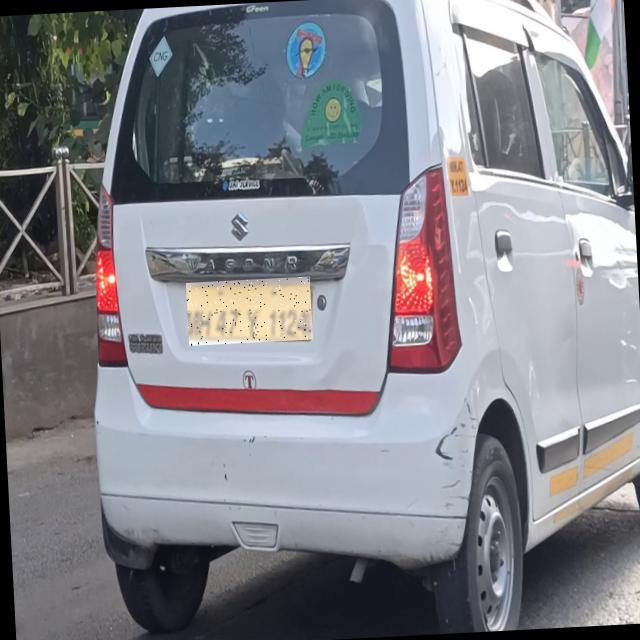Plate: (187, 278, 314, 347)
